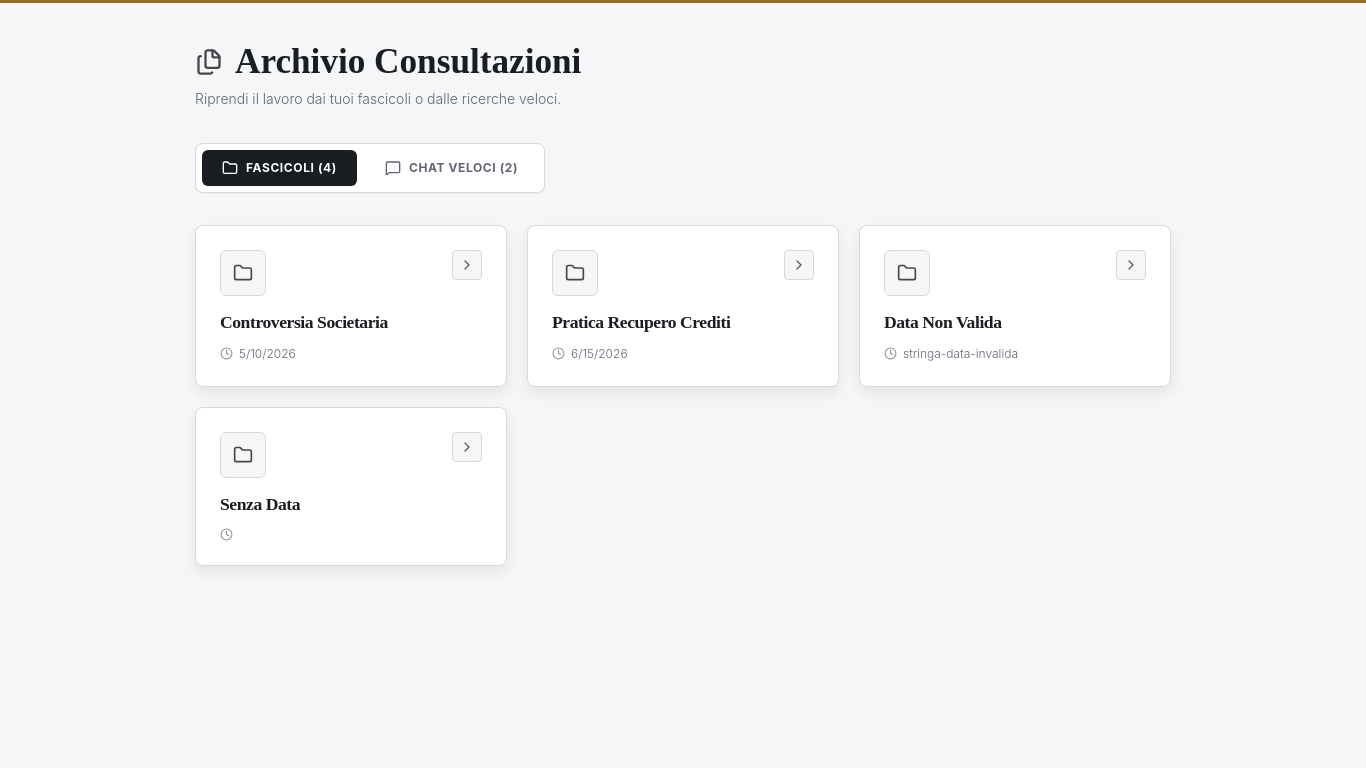
PastFascicoli Component Suite › permette di cambiare tab e aggiorna l'hash URL con replaceState
The width and height of the screenshot is (1366, 768).
Click the button "Chat Veloci (2)": [452, 168] box x1=365 y1=150 x2=538 y2=186
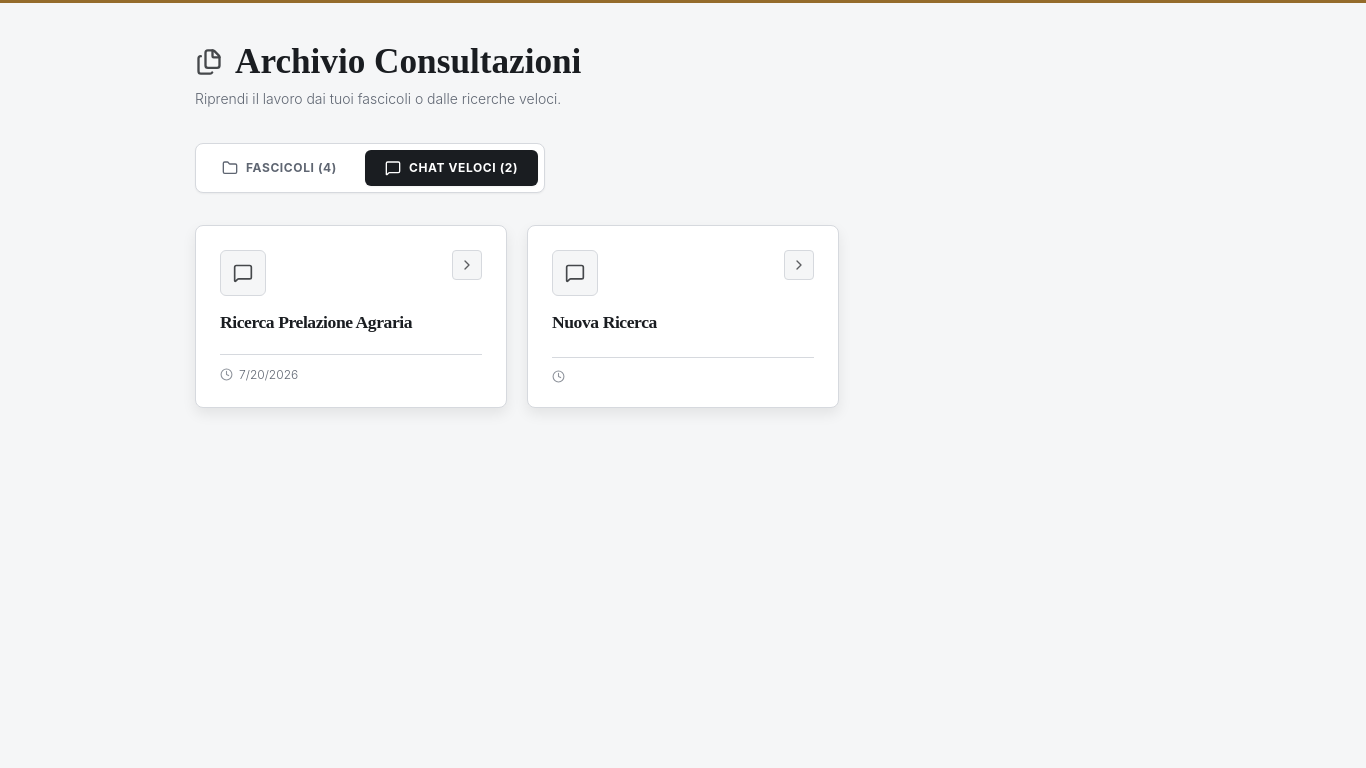
Expected: the heading "Ricerca Prelazione Agraria" is shown, x1=220 y1=312 x2=412 y2=332
Click the button "Fascicoli (4)": [279, 168] box x1=202 y1=150 x2=357 y2=186
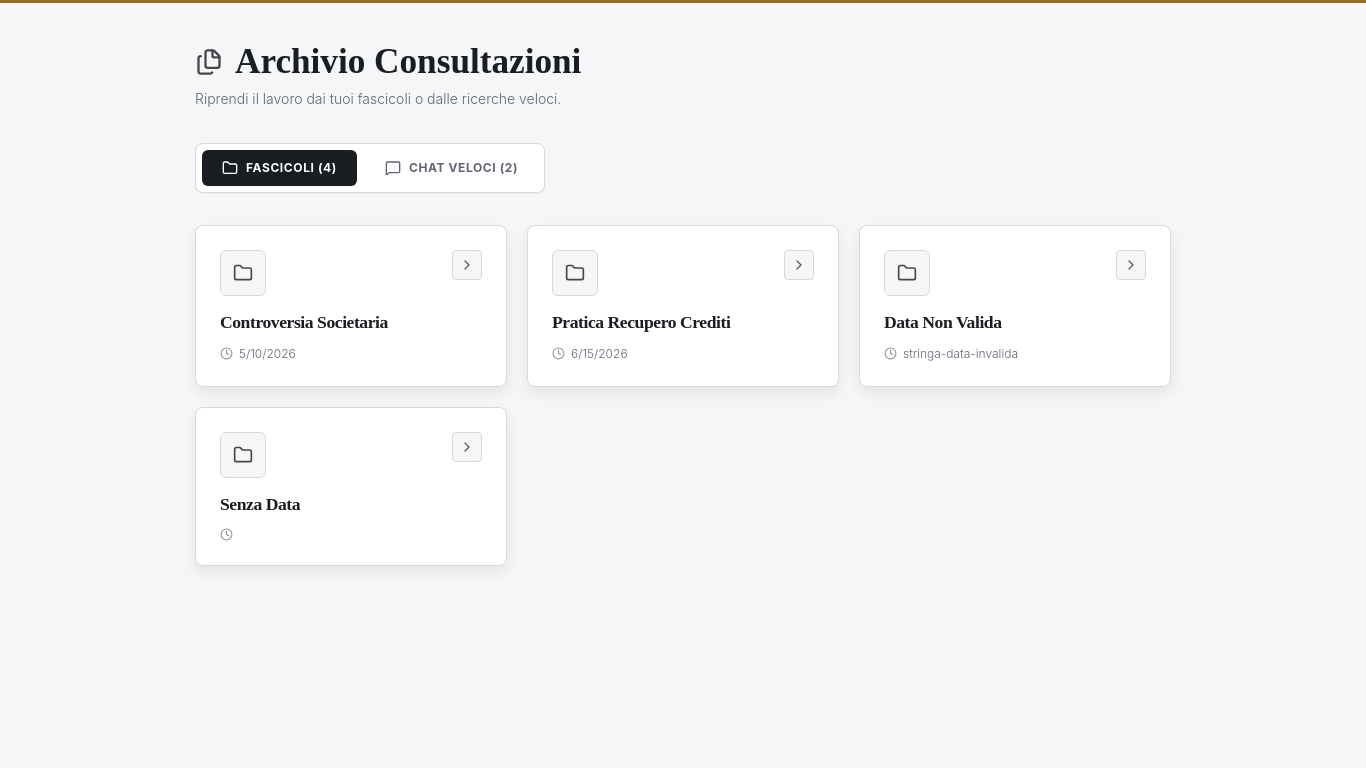
Expected: the heading "Controversia Societaria" is shown, x1=220 y1=312 x2=388 y2=332
